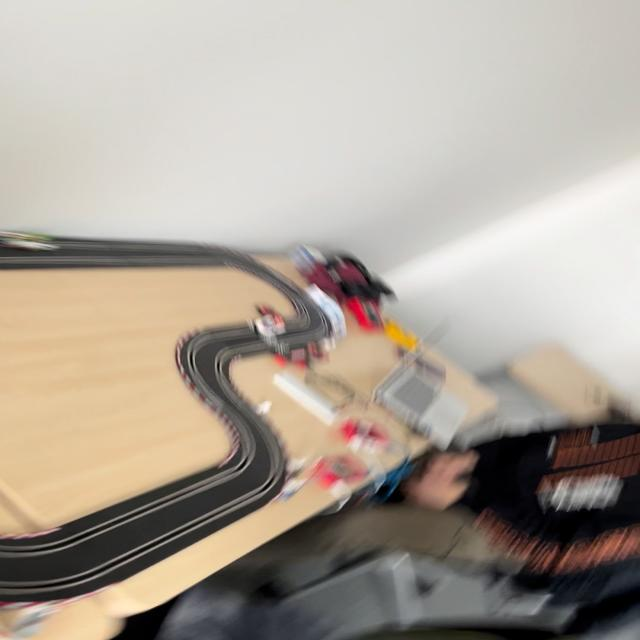mario: (256, 312, 290, 337)
yoshi: (0, 231, 65, 253)
